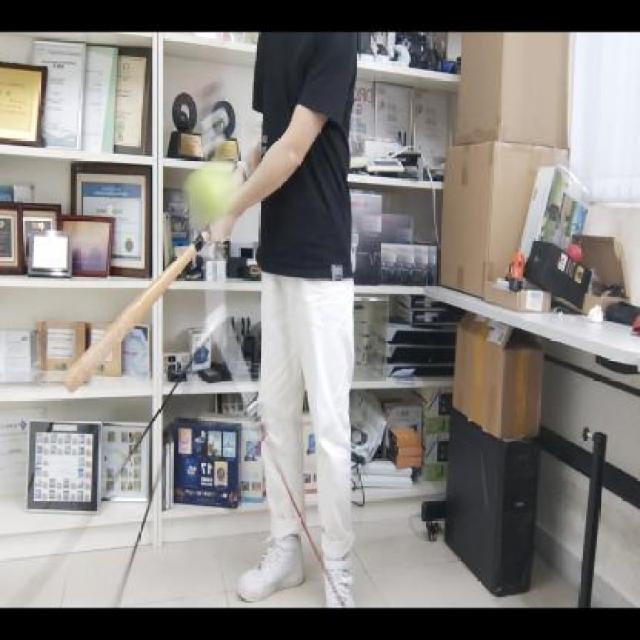baseball: (181, 160, 237, 232)
